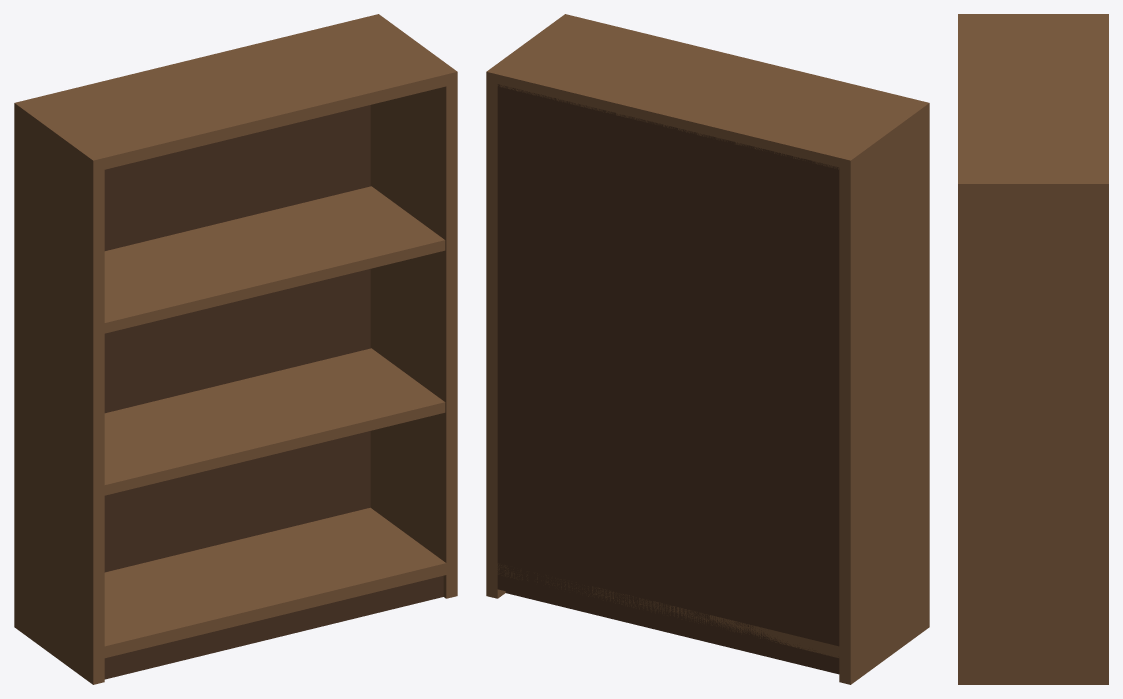
File: SM_P0_Bookcase_A.obj
The picture shows the model from 3 angles, left to right: view 1: azimuth 30°, elevation 25°; view 2: azimuth 150°, elevation 25°; view 3: azimuth 270°, elevation 25°; orthographic projection. The views are drawn at different scales.
Parts seen in each view (by area): view 1: back_panel, side_l, side_r, top, bottom, shelf_1, shelf_2, plinth; view 2: back_panel, side_l, top, side_r, bottom, plinth; view 3: side_r, top, side_l.
Boxes of the visible parts, x1,y1,x2,y2 form: back_panel: (104, 105, 370, 572); side_l: (14, 100, 104, 684); side_r: (367, 14, 457, 598); top: (14, 15, 457, 169); bottom: (104, 507, 446, 658); shelf_1: (104, 348, 445, 495); shelf_2: (104, 186, 445, 333); plinth: (104, 575, 443, 679); back_panel: (497, 84, 839, 672); side_l: (839, 100, 929, 684); top: (486, 14, 929, 169); side_r: (486, 14, 575, 598); bottom: (497, 563, 839, 657); plinth: (505, 591, 839, 674); side_r: (958, 178, 1108, 684); top: (958, 14, 1108, 195); side_l: (958, 14, 1108, 19).
Size of the model in its own units: 0.8 by 1.1 by 0.3.
